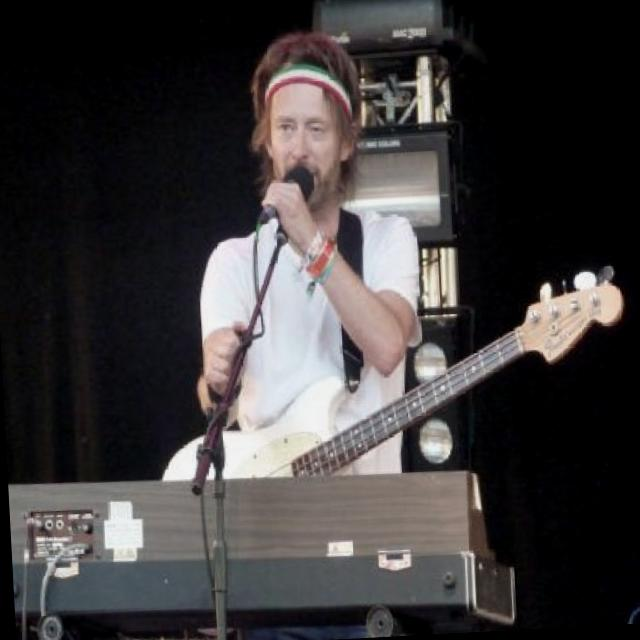Person: (155, 38, 536, 608)
